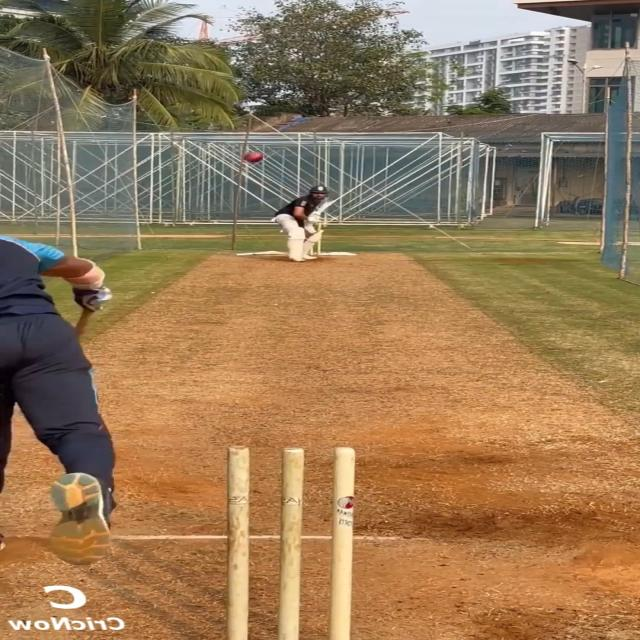ball: (243, 152, 263, 164)
stump: (223, 444, 364, 640)
